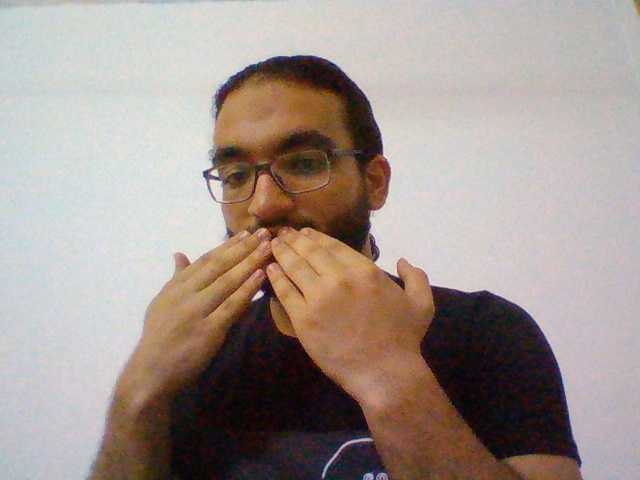Thanks: (91, 226, 456, 417)
